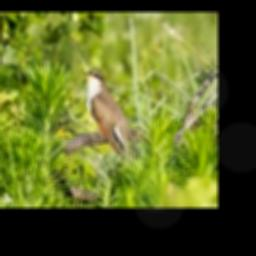Cuckoo: (82, 69, 133, 163)
